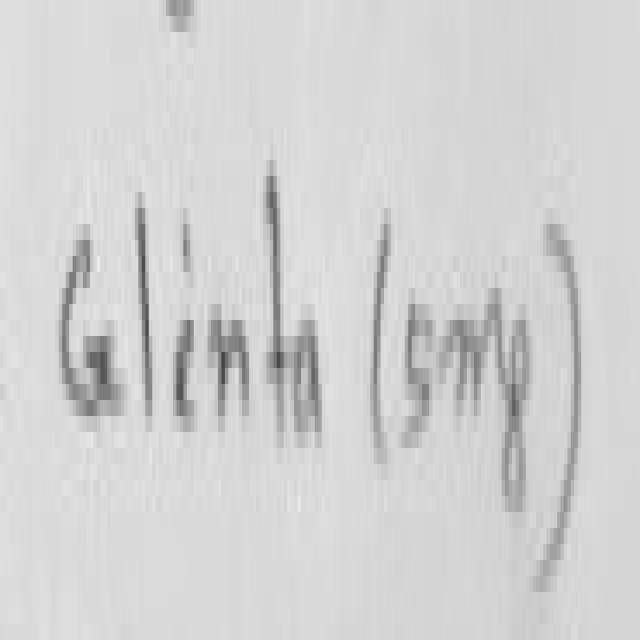5: (405, 304, 434, 440)
G: (62, 240, 121, 416)
a: (294, 320, 322, 432)
e: (176, 320, 194, 408)
g: (506, 320, 529, 512)
l: (138, 208, 152, 416)
m: (443, 288, 509, 418)
n: (211, 320, 249, 416)
t: (266, 176, 297, 443)
